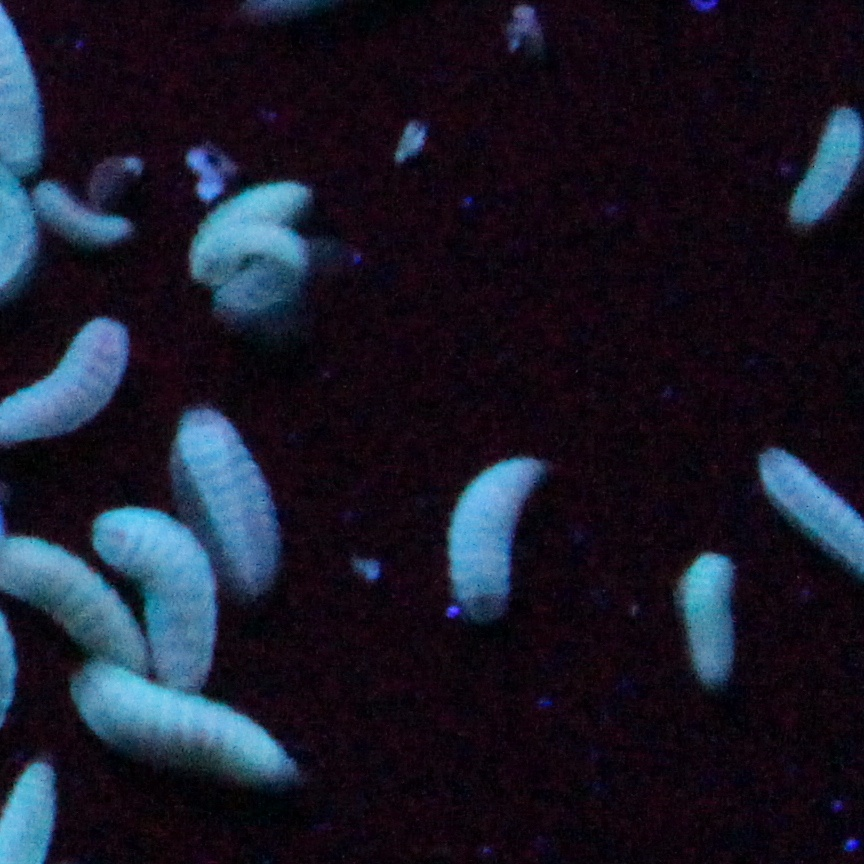larve: (75, 668, 295, 794), (175, 401, 282, 594), (115, 501, 222, 688), (462, 448, 542, 628), (188, 181, 315, 294), (675, 548, 748, 688), (34, 181, 131, 243)
